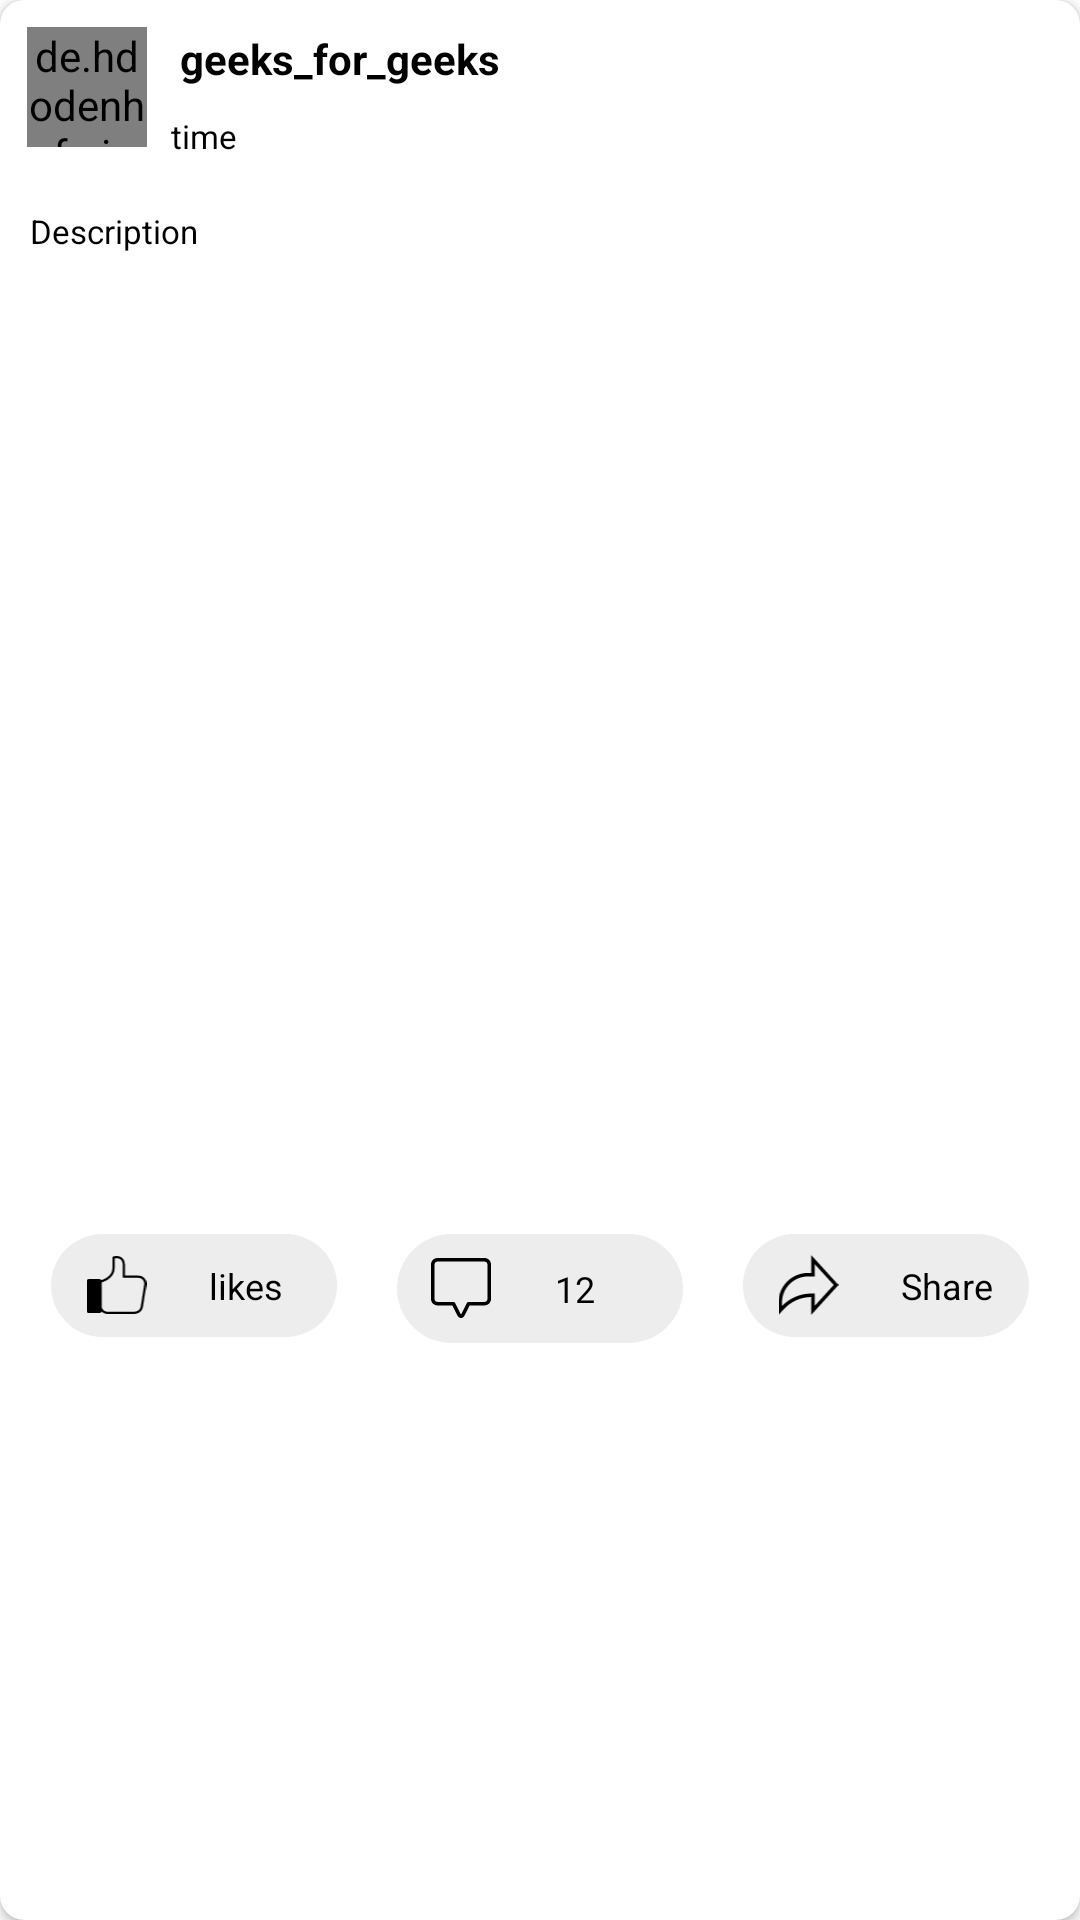

Screen size 1080px×1920px. Icon name, then its box in pixels as (x1, y1, x2, y2):
comment: (431, 1258, 491, 1318)
